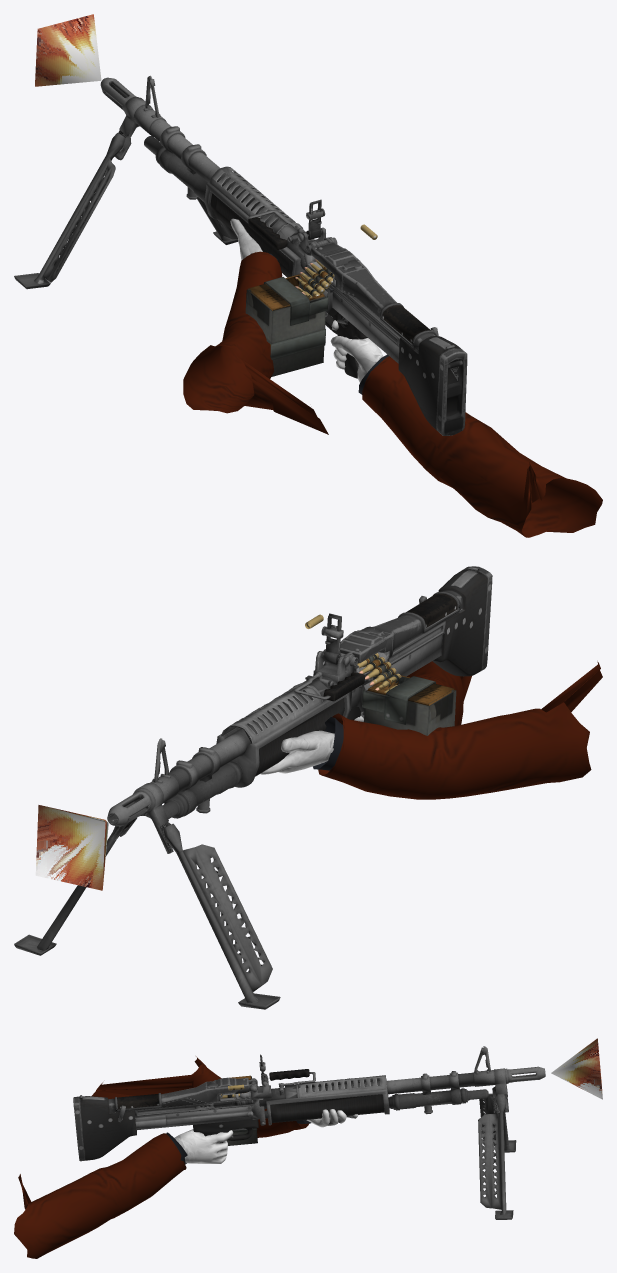
File: frame_4.obj
3 views of the same model, one above another, from view 1: azimuth 30°, elevation 25°; view 2: azimuth 150°, elevation 25°; view 3: azimuth 270°, elevation 25° (orthographic). The views are drawn at different scales.
Parts seen in each view (by area): view 1: Mesh.005, PlayerModelMerged.001_PlayerModelMerged, Plane, Mesh.001; view 2: Mesh.005, PlayerModelMerged.001_PlayerModelMerged, Plane, Mesh.001; view 3: Mesh.005, PlayerModelMerged.001_PlayerModelMerged, Plane.
Boxes of the visible parts, <box> form: Mesh.005: <box>14,75,467,435</box>; PlayerModelMerged.001_PlayerModelMerged: <box>183,218,602,537</box>; Plane: <box>35,14,101,86</box>; Mesh.001: <box>295,259,334,296</box>; Mesh.005: <box>14,566,492,1009</box>; PlayerModelMerged.001_PlayerModelMerged: <box>260,661,602,799</box>; Plane: <box>35,805,108,890</box>; Mesh.001: <box>357,653,401,690</box>; Mesh.005: <box>73,1046,545,1219</box>; PlayerModelMerged.001_PlayerModelMerged: <box>14,1056,358,1258</box>; Plane: <box>551,1038,602,1099</box>.
Size of the model in its own units: 0.9568 by 0.7868 by 2.37.
